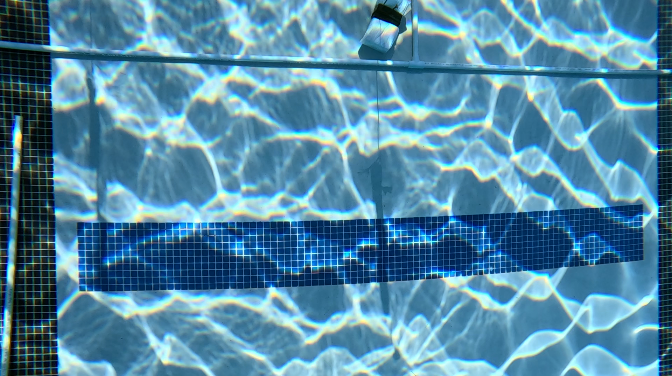sandbag: (362, 0, 410, 52)
